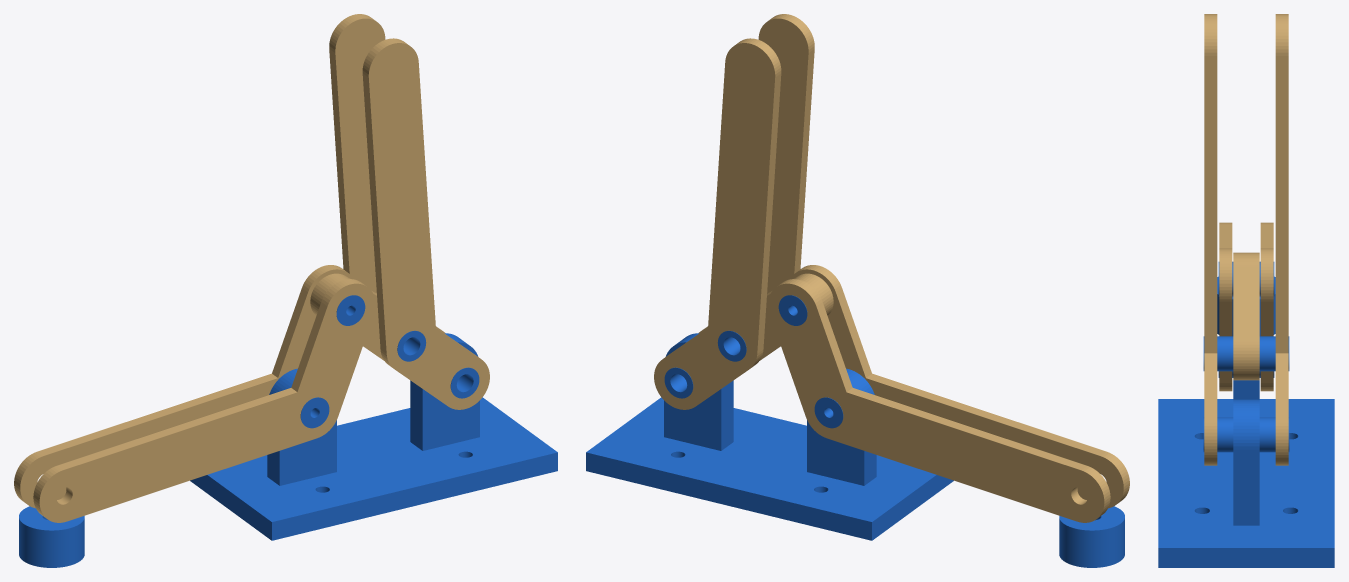
The model's file is m05_baugruppe.glb.
3 views of the same model, side by side, from view 1: azimuth 30°, elevation 25°; view 2: azimuth 150°, elevation 25°; view 3: azimuth 270°, elevation 25° (orthographic). The views are drawn at different scales.
Parts seen in each view (by area): view 1: M05-P04_1, M05-P01_2, M05-P02_2, M05-P02_1, M05-P01_1, M05-P06_1, M05-P03_2, M05-P05_1, M05-P07_2, M05-P07_1, M05-P05_2; view 2: M05-P04_1, M05-P01_1, M05-P02_1, M05-P02_2, M05-P01_2, M05-P06_1, M05-P03_1, M05-P05_1, M05-P07_2, M05-P07_1, M05-P05_2; view 3: M05-P04_1, M05-P02_1, M05-P02_2, M05-P01_1, M05-P01_2, M05-P03_1, M05-P03_2, M05-P05_1, M05-P05_2, M05-P06_1, M05-P07_2.
Boxes of the visible parts, x1,y1,x2,y2 form: M05-P04_1: (190,333,557,540); M05-P01_2: (33,279,375,522); M05-P02_2: (362,38,489,409); M05-P02_1: (329,14,445,360); M05-P01_1: (14,265,353,508); M05-P06_1: (19,506,84,567); M05-P03_2: (316,278,381,354); M05-P05_1: (450,367,479,398); M05-P07_2: (336,295,365,325); M05-P07_1: (300,397,329,428); M05-P05_2: (397,330,426,361); M05-P04_1: (586,333,953,540); M05-P01_1: (768,279,1110,522); M05-P02_1: (654,38,781,409); M05-P02_2: (698,14,814,360); M05-P01_2: (790,265,1129,508); M05-P06_1: (1059,506,1124,567); M05-P03_1: (762,278,827,354); M05-P05_1: (664,367,693,398); M05-P07_2: (778,295,807,325); M05-P07_1: (814,397,843,428); M05-P05_2: (717,330,746,361); M05-P04_1: (1158,380,1334,567); M05-P02_1: (1275,14,1288,465); M05-P02_2: (1204,14,1217,465); M05-P01_1: (1260,222,1273,391); M05-P01_2: (1219,222,1232,391); M05-P03_1: (1246,252,1259,380); M05-P03_2: (1233,252,1246,380); M05-P05_1: (1203,417,1289,452); M05-P05_2: (1203,336,1289,371); M05-P06_1: (1217,276,1275,336); M05-P07_2: (1218,261,1274,296).
Bounding box in the file's own units: 138 × 119 × 40.
